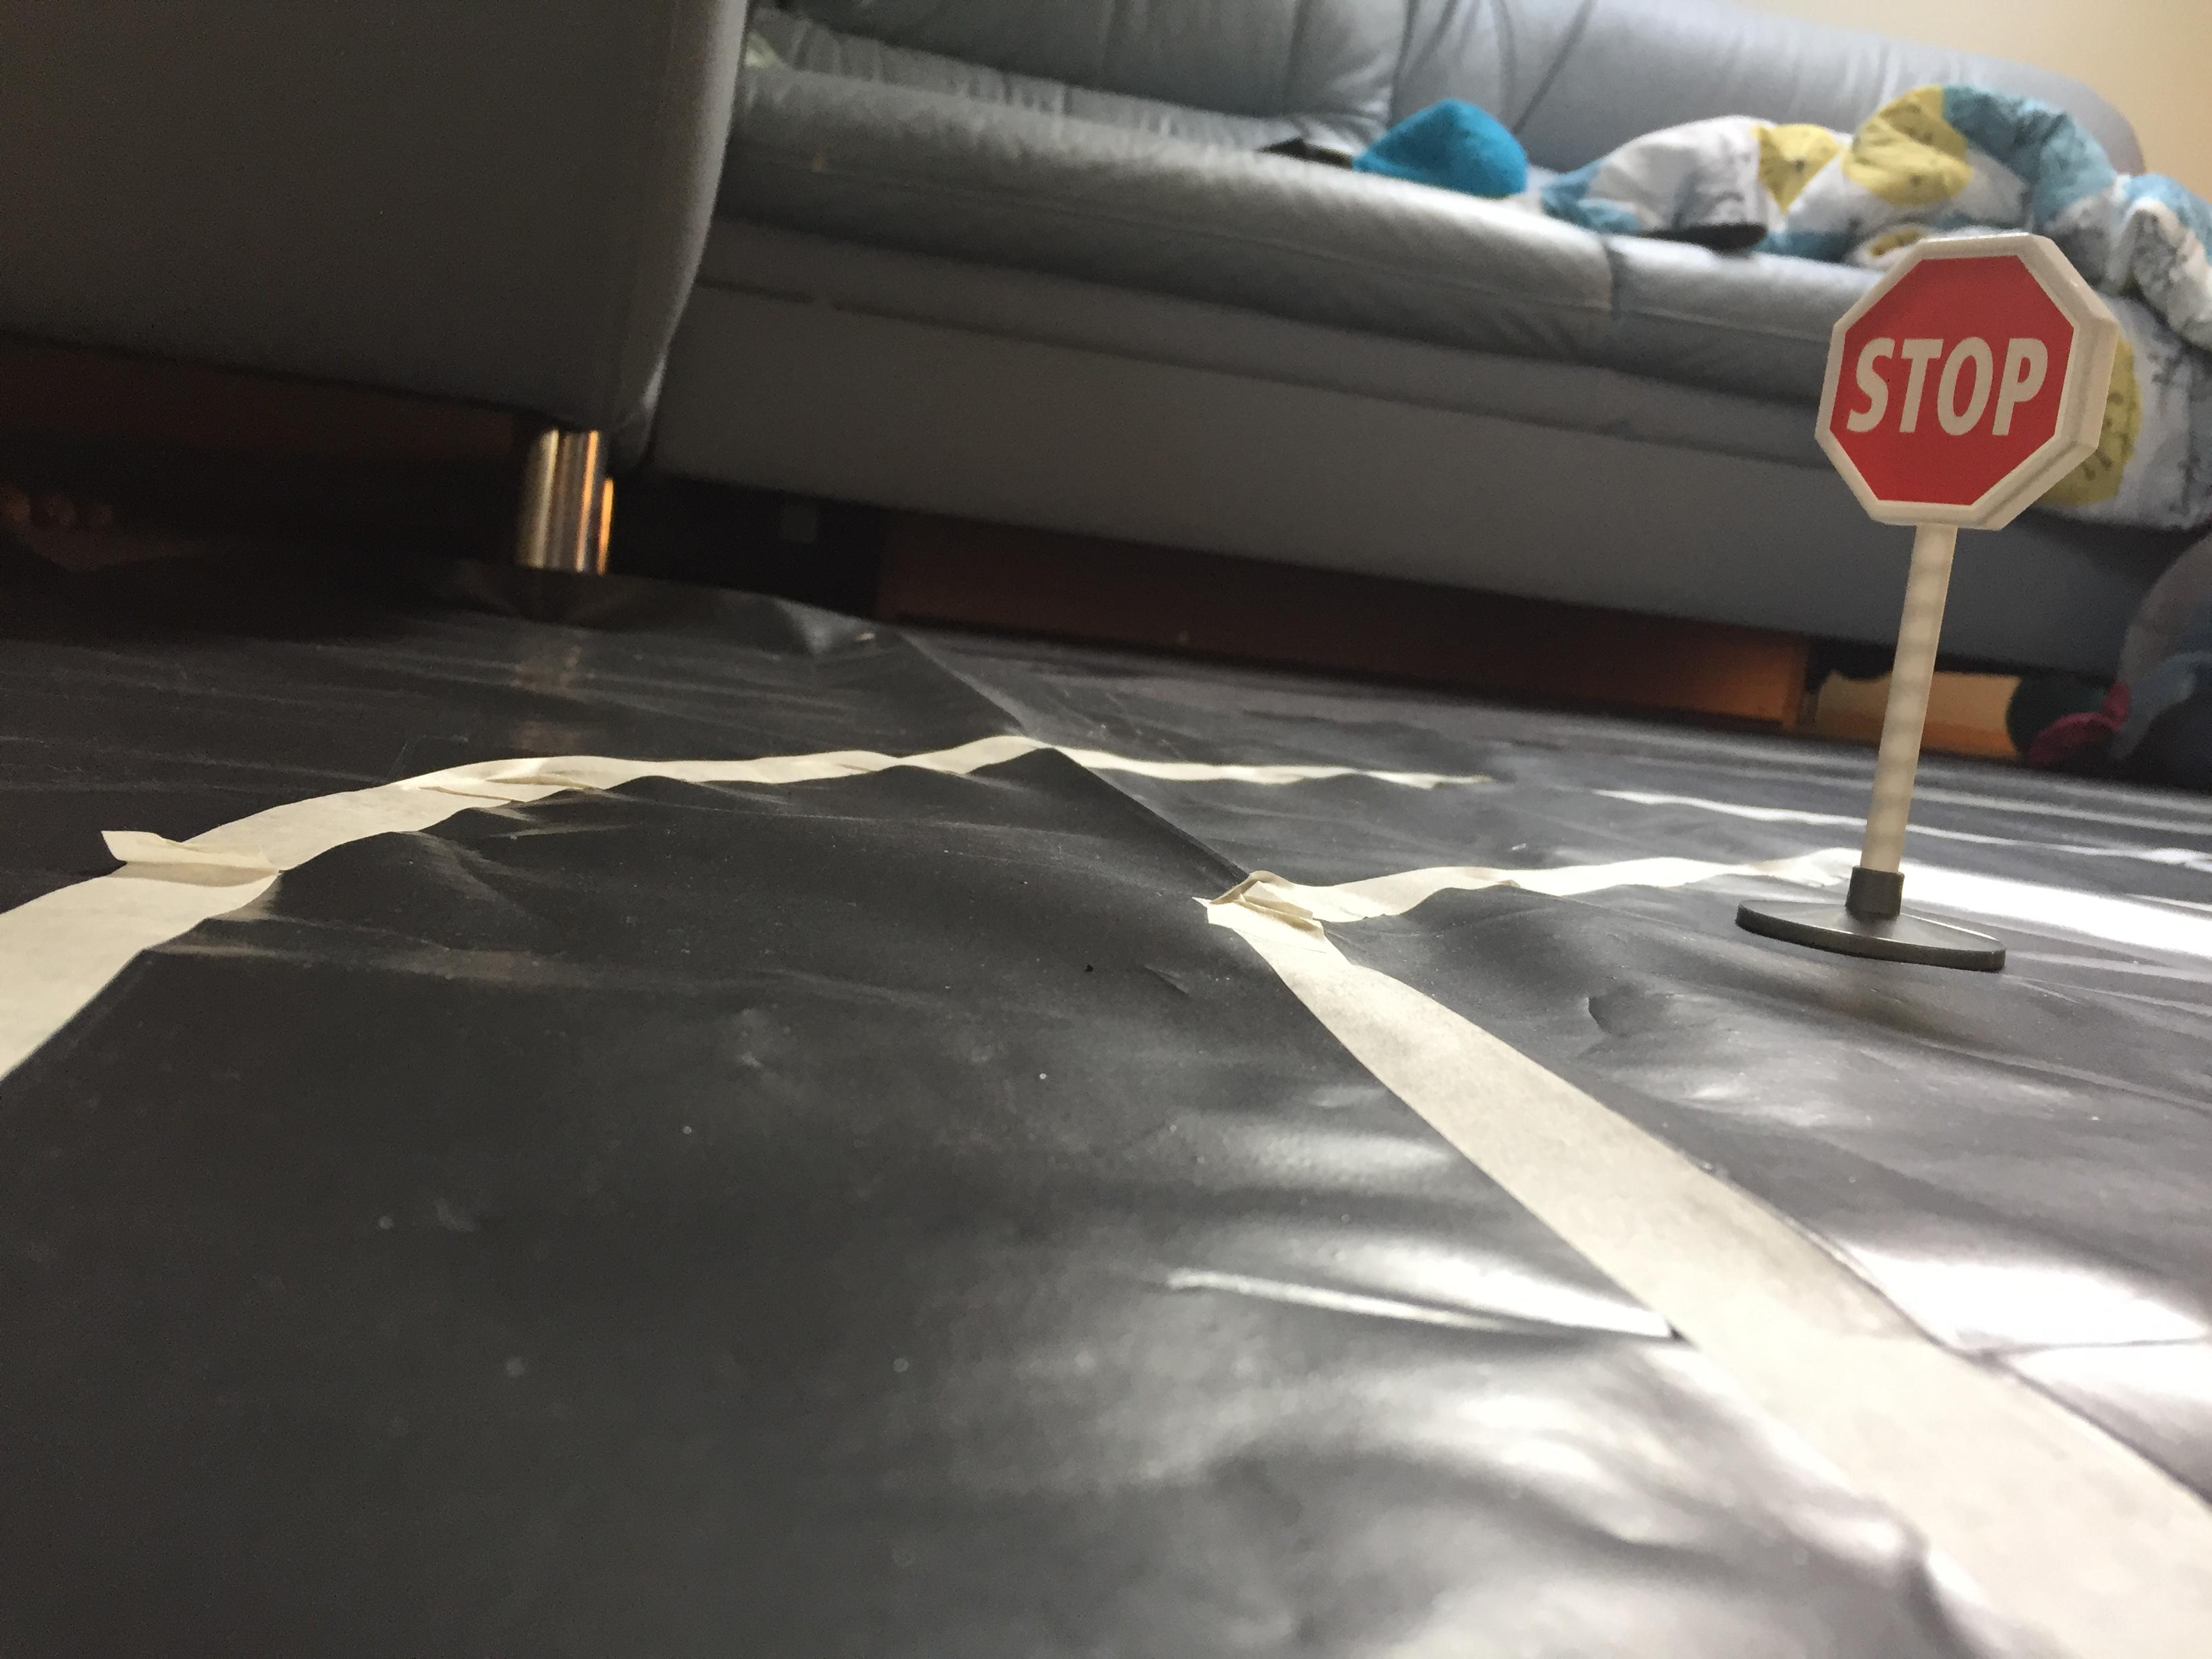stop: (1799, 216, 2123, 545)
